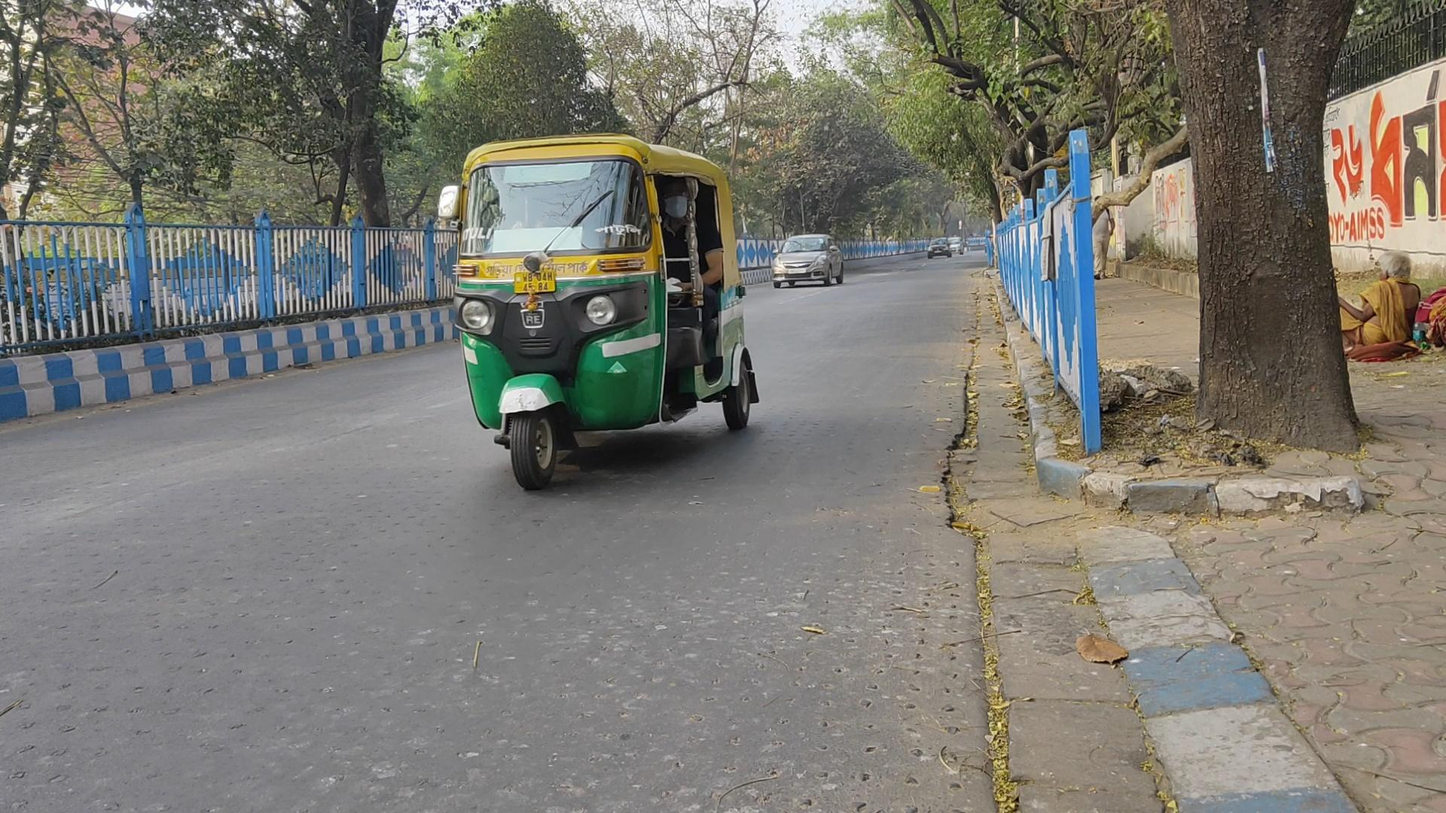Auto: (439, 132, 761, 492)
car: (770, 233, 846, 289), (927, 237, 953, 259), (950, 236, 966, 256)
